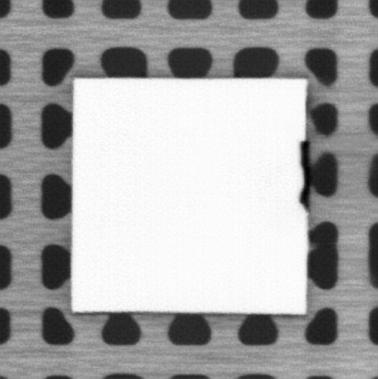DIE_BROKEN: (298, 138, 311, 214)
